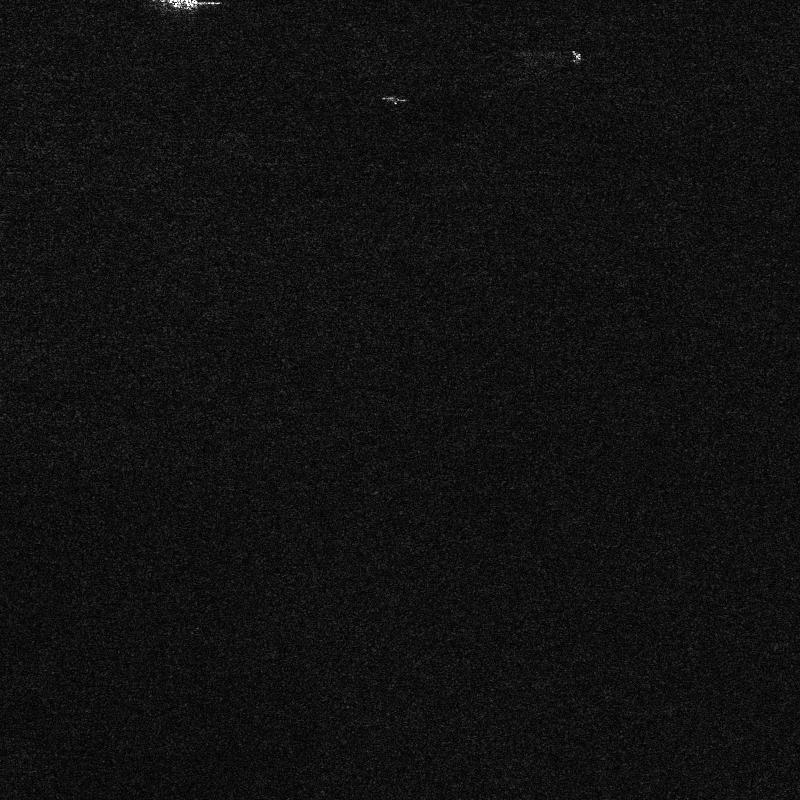ship: (381, 96, 407, 104), (571, 50, 581, 59)
